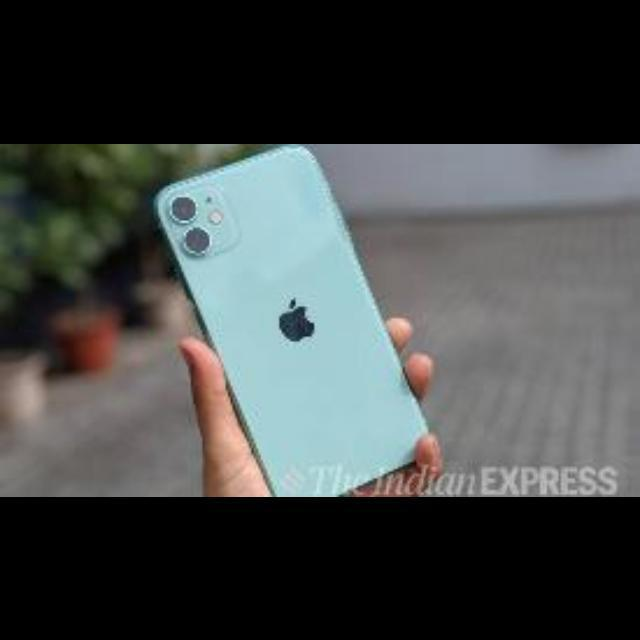PhoneUse: (152, 144, 416, 478)
